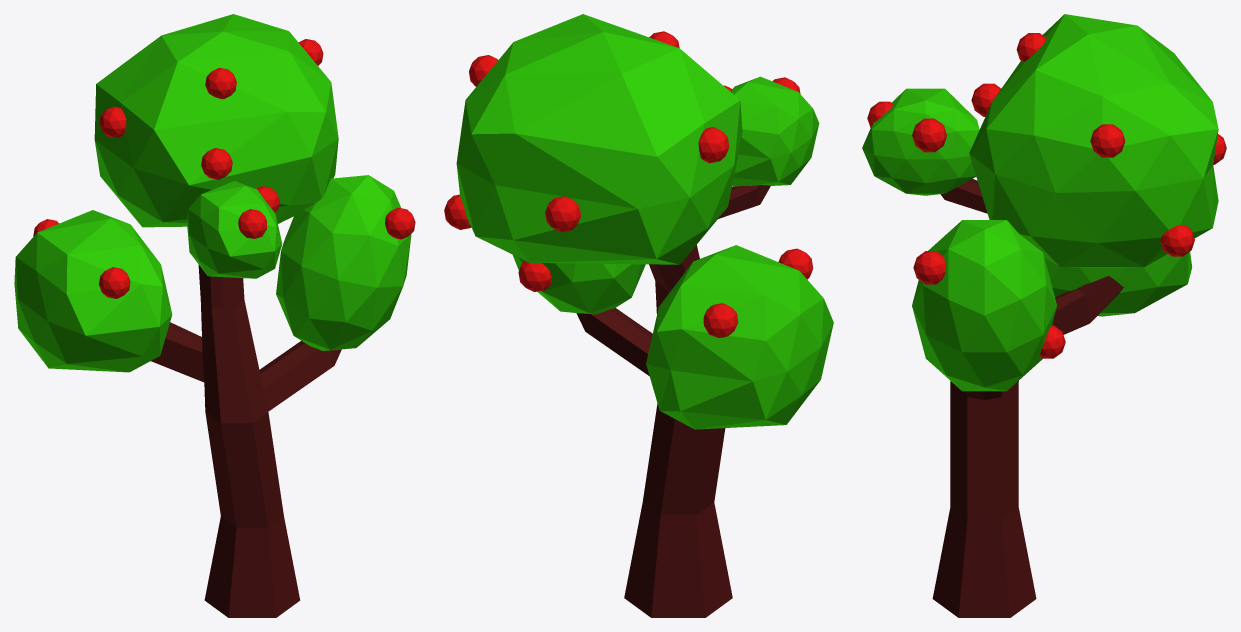
Rendered from Apple Tree.fbx.
3 renders of one model, left to right at view 1: azimuth 30°, elevation 25°; view 2: azimuth 150°, elevation 25°; view 3: azimuth 270°, elevation 25°, orthographic. The views are drawn at different scales.
Visible parts, largest first — view 1: Icosphere, Cylinder, Icosphere.002, Icosphere.001, Icosphere.003, Icosphere.005, Icosphere.010, Icosphere.004, Icosphere.013, Icosphere.012, Icosphere.015; view 2: Icosphere, Icosphere.002, Cylinder, Icosphere.003, Icosphere.001, Icosphere.008, Icosphere.009, Icosphere.015, Icosphere.014, Icosphere.007, Icosphere.010, Icosphere.006; view 3: Icosphere, Cylinder, Icosphere.001, Icosphere.003, Icosphere.002, Icosphere.011, Icosphere.006, Icosphere.013, Icosphere.007, Icosphere.005, Icosphere.014, Icosphere.004.
Part boxes in pixels (x1,y1,x2,y2): Icosphere: (94, 14, 338, 227); Cylinder: (151, 265, 341, 617); Icosphere.002: (14, 210, 172, 372); Icosphere.001: (276, 175, 411, 350); Icosphere.003: (187, 181, 282, 278); Icosphere.005: (201, 148, 232, 179); Icosphere.010: (99, 267, 130, 298); Icosphere.004: (205, 67, 236, 99); Icosphere.013: (385, 207, 415, 239); Icosphere.012: (238, 209, 267, 238); Icosphere.015: (99, 106, 126, 138); Icosphere: (456, 14, 742, 264); Icosphere.002: (646, 245, 833, 429); Cylinder: (576, 185, 770, 617); Icosphere.003: (730, 76, 819, 186); Icosphere.001: (513, 255, 645, 314); Icosphere.008: (545, 196, 580, 232); Icosphere.009: (703, 303, 738, 337); Icosphere.015: (698, 127, 729, 163); Icosphere.014: (518, 261, 551, 291); Icosphere.007: (444, 194, 471, 229); Icosphere.010: (778, 248, 813, 279); Icosphere.006: (469, 55, 498, 86); Icosphere: (969, 14, 1218, 267); Cylinder: (932, 178, 1123, 617); Icosphere.001: (912, 220, 1056, 391); Icosphere.003: (862, 88, 979, 195); Icosphere.002: (1045, 252, 1192, 316); Icosphere.011: (912, 118, 946, 152); Icosphere.006: (1090, 124, 1125, 157); Icosphere.013: (913, 251, 946, 284); Icosphere.007: (1160, 225, 1194, 256); Icosphere.005: (971, 83, 1001, 116); Icosphere.014: (1040, 325, 1065, 358); Icosphere.004: (1016, 33, 1046, 62).
Size of the model in its own units: 548 by 873 by 502.
